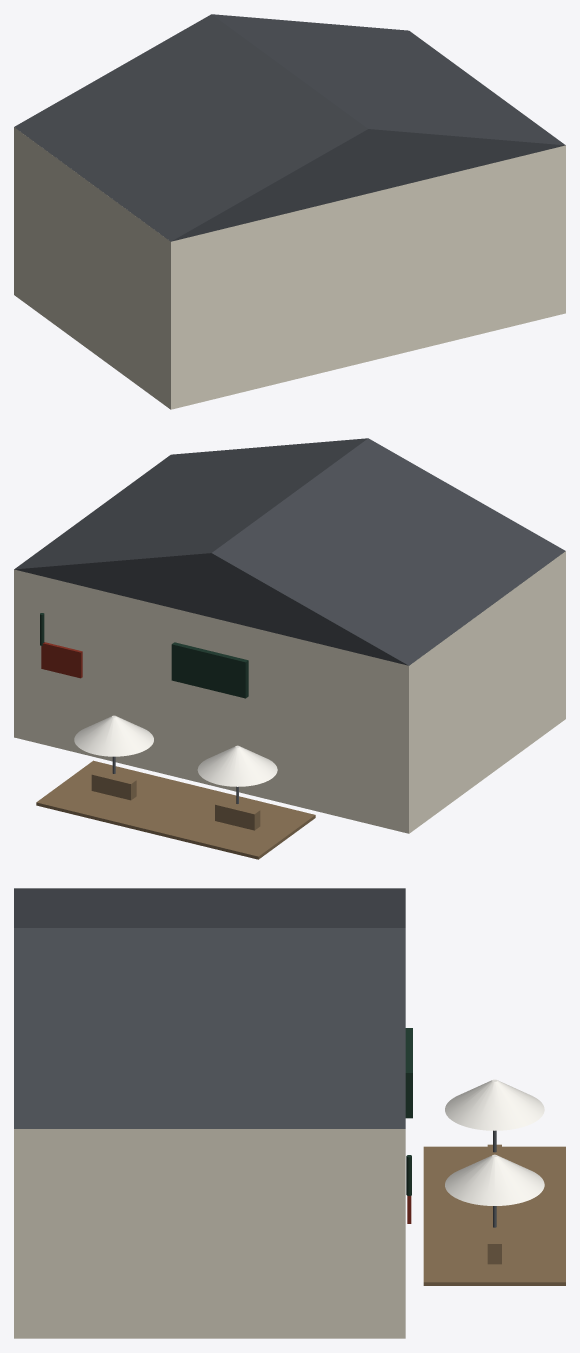
The model's file is d-gb-03-riverside-pub.glb.
3 views of the same model, one above another, from view 1: azimuth 30°, elevation 25°; view 2: azimuth 150°, elevation 25°; view 3: azimuth 270°, elevation 25° (orthographic). The views are drawn at different scales.
Parts seen in each view (by area): view 1: part0, part1; view 2: part0, part1, part5, part2, part10, part7, part3, part9, part6; view 3: part1, part0, part5, part7, part10, part2, part9.
Part boxes in pixels (x1=…): part0: x1=14, y1=127, x2=565, y2=409; part1: x1=14, y1=14, x2=565, y2=241; part0: x1=14, y1=551, x2=565, y2=833; part1: x1=14, y1=438, x2=565, y2=665; part5: x1=36, y1=760, x2=315, y2=859; part2: x1=171, y1=642, x2=248, y2=698; part10: x1=74, y1=715, x2=153, y2=756; part7: x1=197, y1=745, x2=277, y2=786; part3: x1=41, y1=642, x2=82, y2=678; part9: x1=91, y1=770, x2=136, y2=800; part6: x1=215, y1=800, x2=260, y2=830; part1: x1=14, y1=888, x2=405, y2=1128; part0: x1=14, y1=1129, x2=405, y2=1338; part5: x1=423, y1=1146, x2=565, y2=1285; part7: x1=445, y1=1079, x2=544, y2=1130; part10: x1=445, y1=1154, x2=544, y2=1205; part2: x1=405, y1=1028, x2=412, y2=1118; part9: x1=487, y1=1219, x2=501, y2=1264.
Size of the model in its own units: 16000 by 9000 by 15499.
